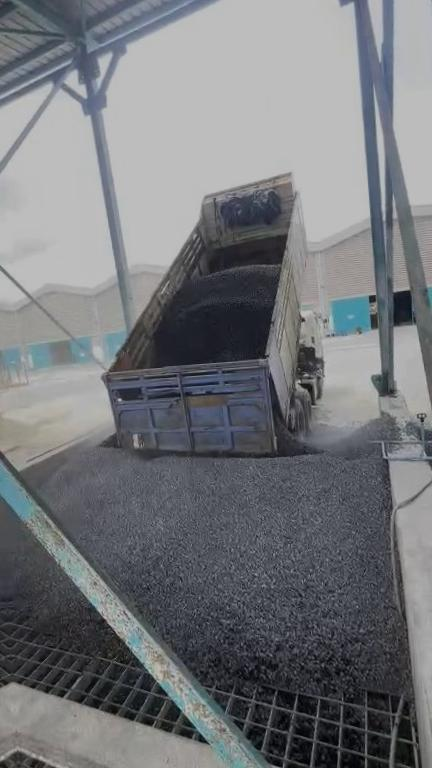gravel: (38, 406, 408, 696), (0, 498, 126, 658), (153, 264, 280, 367), (423, 425, 432, 506)
sand: (0, 410, 87, 469)
